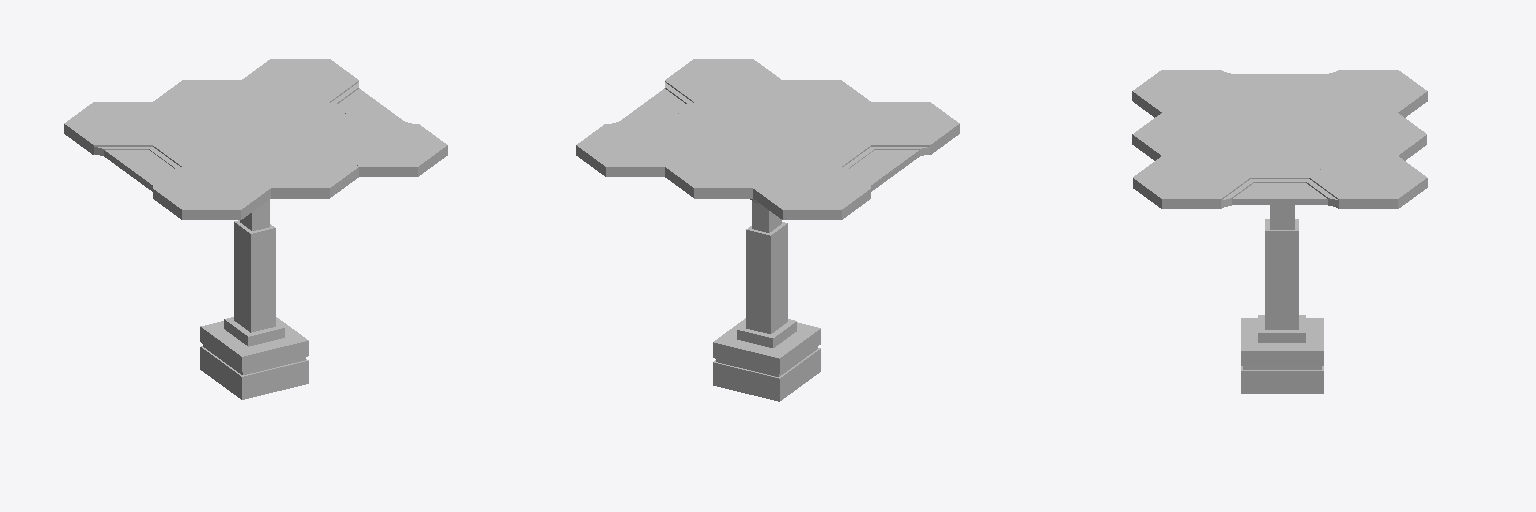
File: modern_solarpanel1.obj
3 views of the same model, side by side, from view 1: azimuth 30°, elevation 25°; view 2: azimuth 150°, elevation 25°; view 3: azimuth 270°, elevation 25° (orthographic).
Visible parts, largest first — view 1: panels, base; view 2: panels, base; view 3: panels, base.
Part boxes in pixels (x1,y1,x2,y2): panels: (64,59,447,219); base: (200,200,308,399); panels: (576,59,959,219); base: (713,201,820,401); panels: (1132,70,1427,208); base: (1241,205,1323,393).
Bounding box in the file's own units: 3.51 × 3.07 × 3.38.